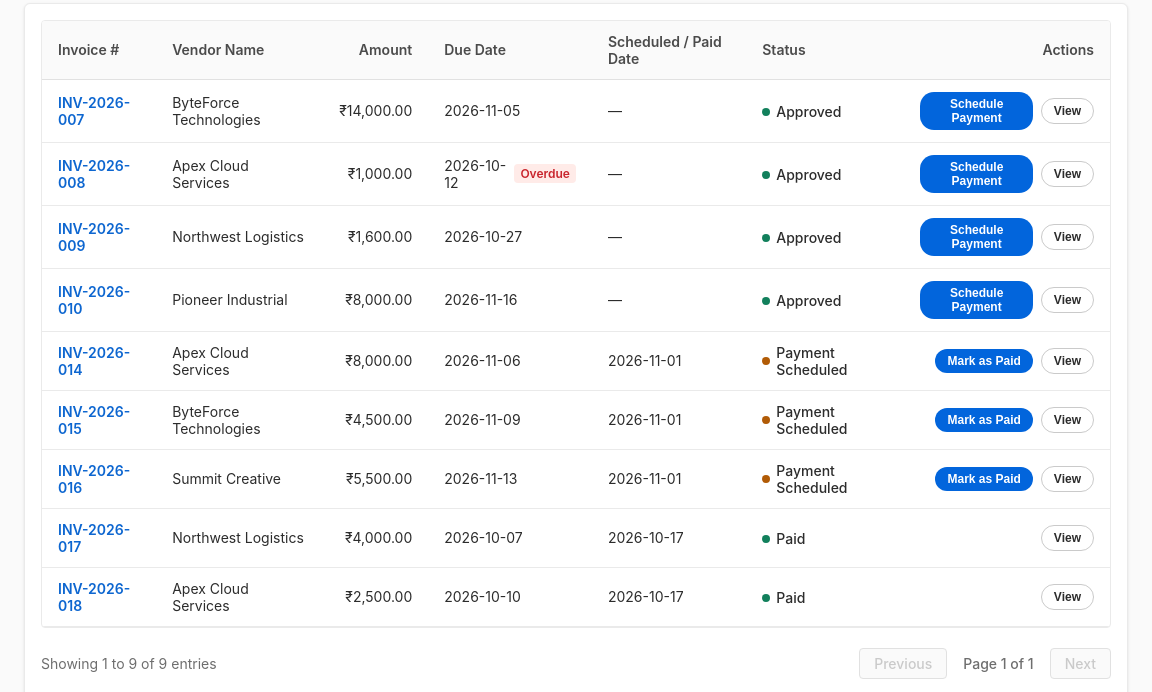
Test: PaymentsPage › Payment Disbursement Actions › allows marking Payment Scheduled invoice as Paid via ConfirmDialog
(page scrolled)
// Click Mark as Paid for INV-2026-014
Click the button with test id "action-mark-paid-inv-14" at (984, 361), box [936,349,1033,373]
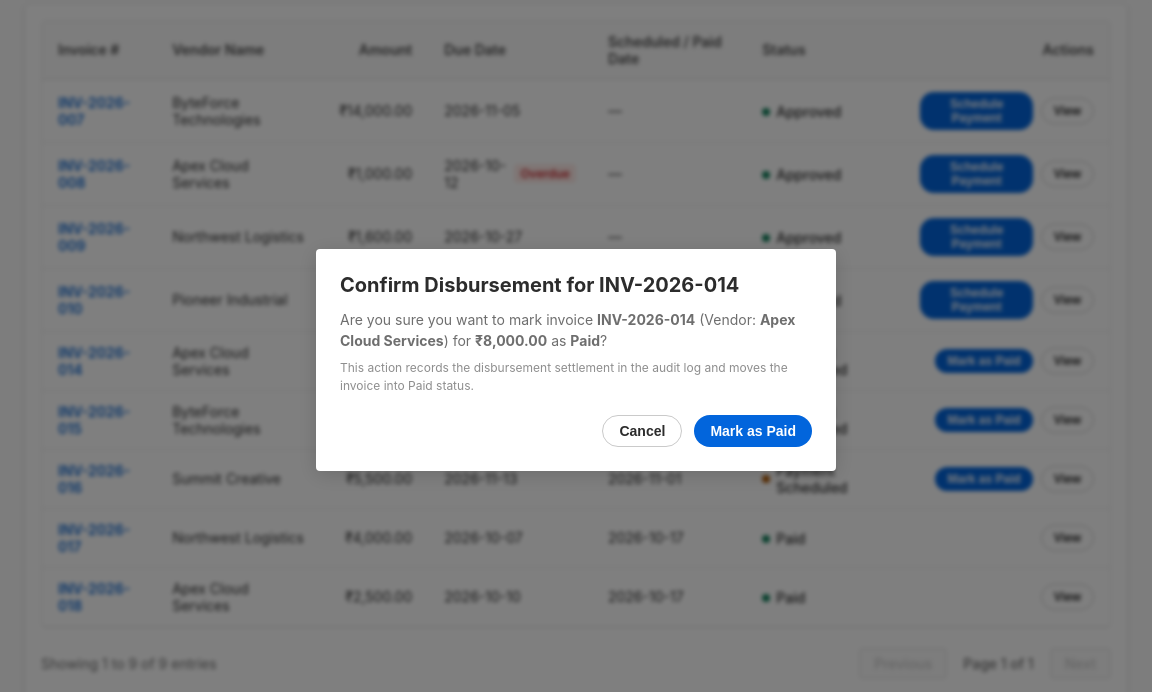
Expected: the heading "Confirm Disbursement for INV-2026-014" is shown, [340,273,739,297]
// Click confirm disbursement
Click the button "Mark as Paid" at (753, 431), box [694,415,812,447]
(page scrolled)
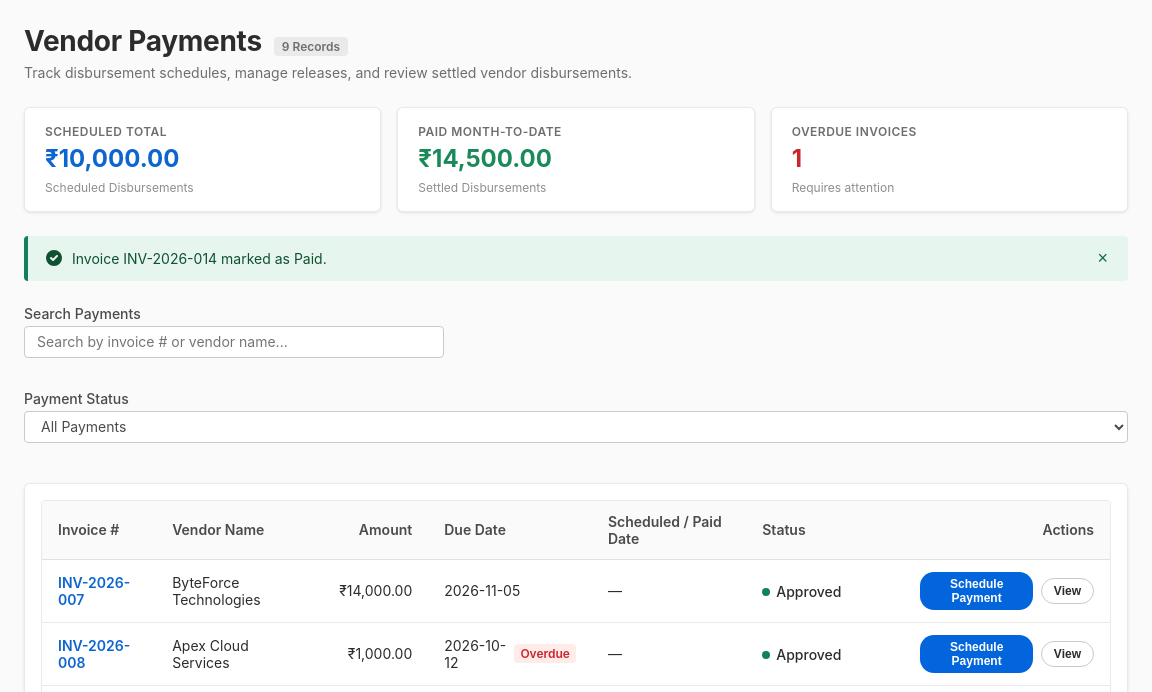
Expected: the message "Invoice INV-2026-014 marked as Paid. ×" is shown, [24,236,1128,281]
Expected: the text "Invoice INV-2026-014 marked as Paid." is shown, [72,250,327,267]
// Dismiss toast
Click the button named "Dismiss notification" at (1103, 258), box [1094,248,1112,269]
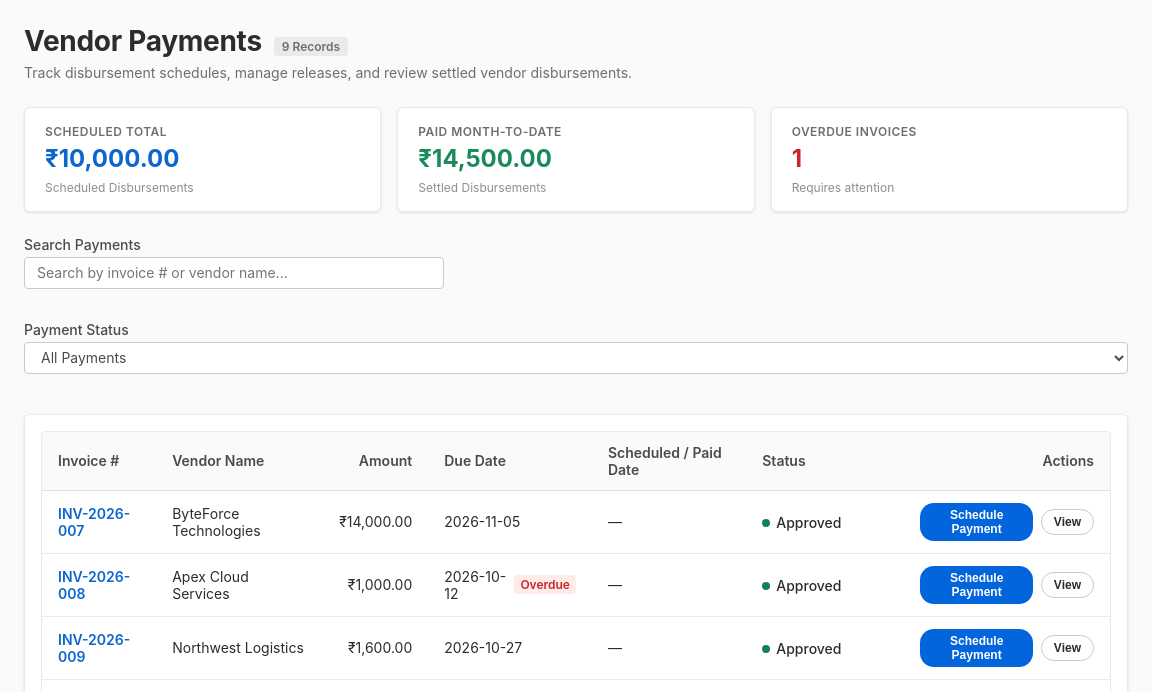
Expected: the message with test id "payments-toast-message" is gone
